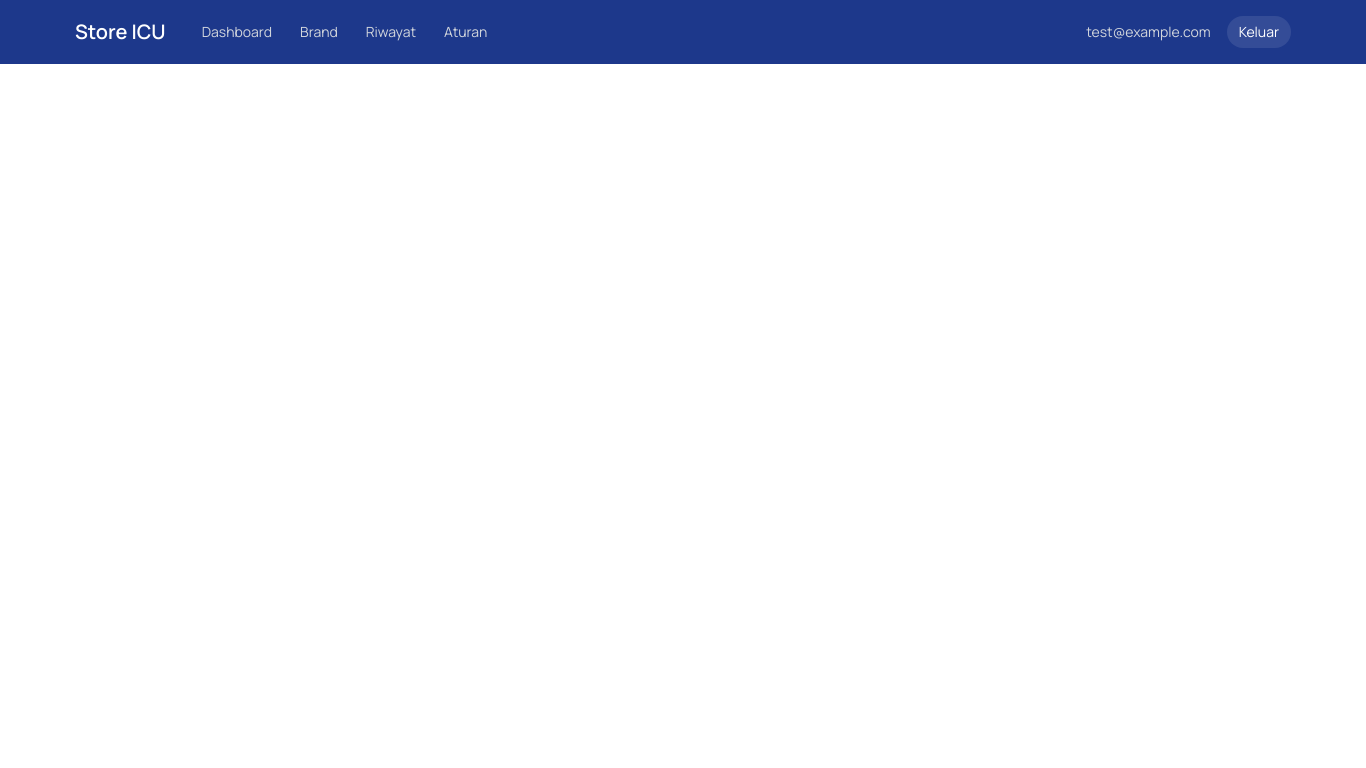
it: Header › closes dialog when cancel is clicked
The width and height of the screenshot is (1366, 768).
Click the button "Keluar".
click(1259, 32)  # box x1=1227 y1=16 x2=1291 y2=48
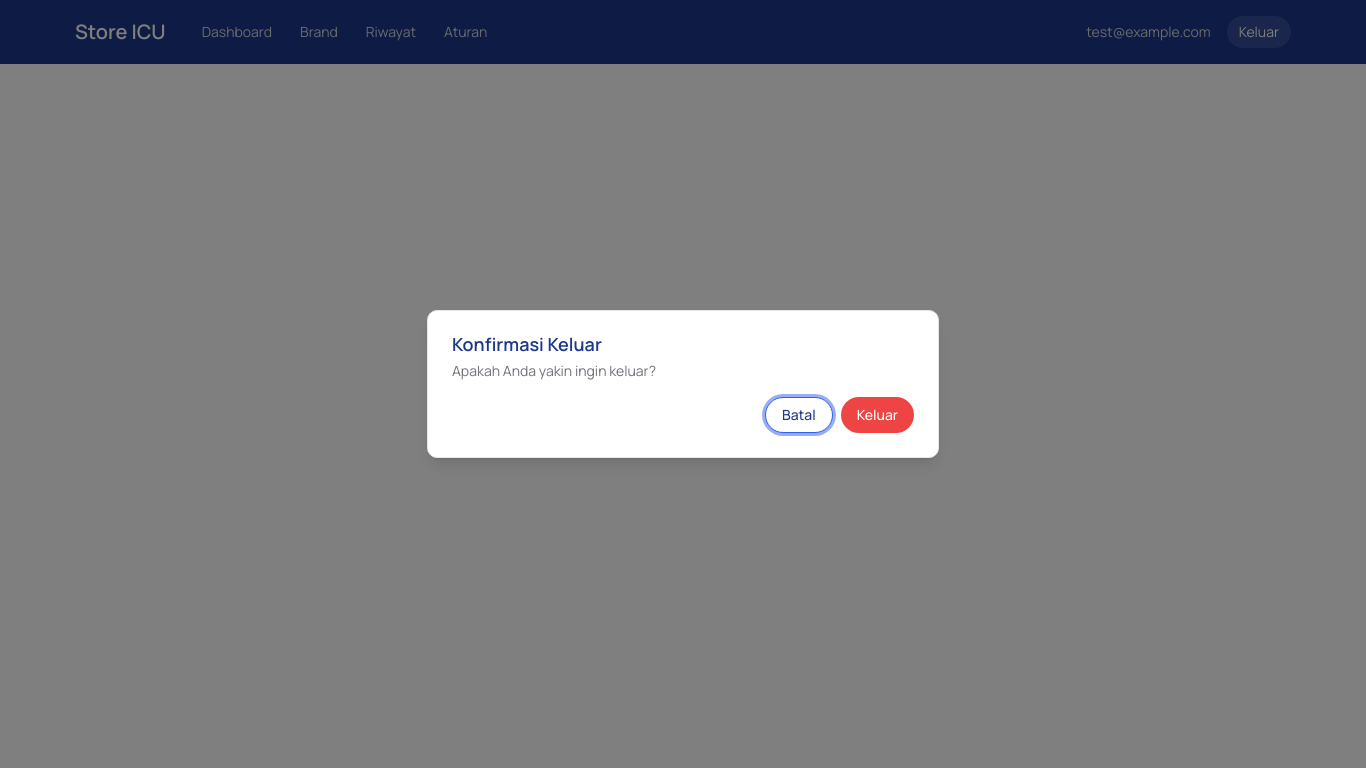
Check: the heading "Konfirmasi Keluar" is shown, box x1=452 y1=332 x2=602 y2=356
Click the button "Batal".
click(799, 415)  # box x1=765 y1=397 x2=833 y2=433
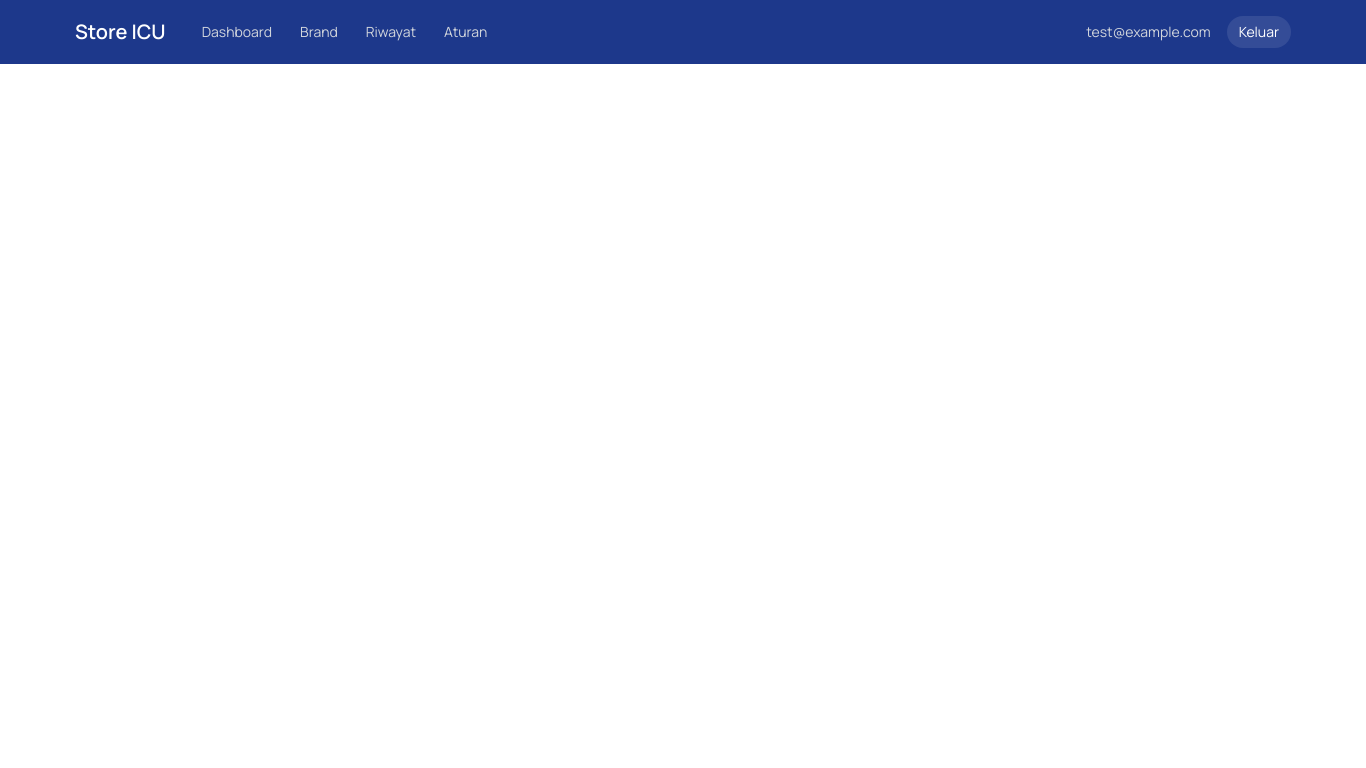
Check: the heading "Konfirmasi Keluar" is gone
